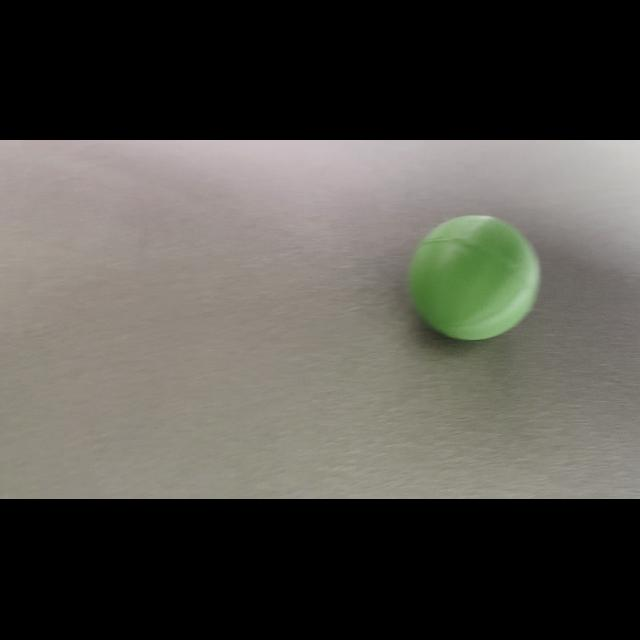objects: (396, 208, 546, 348)
